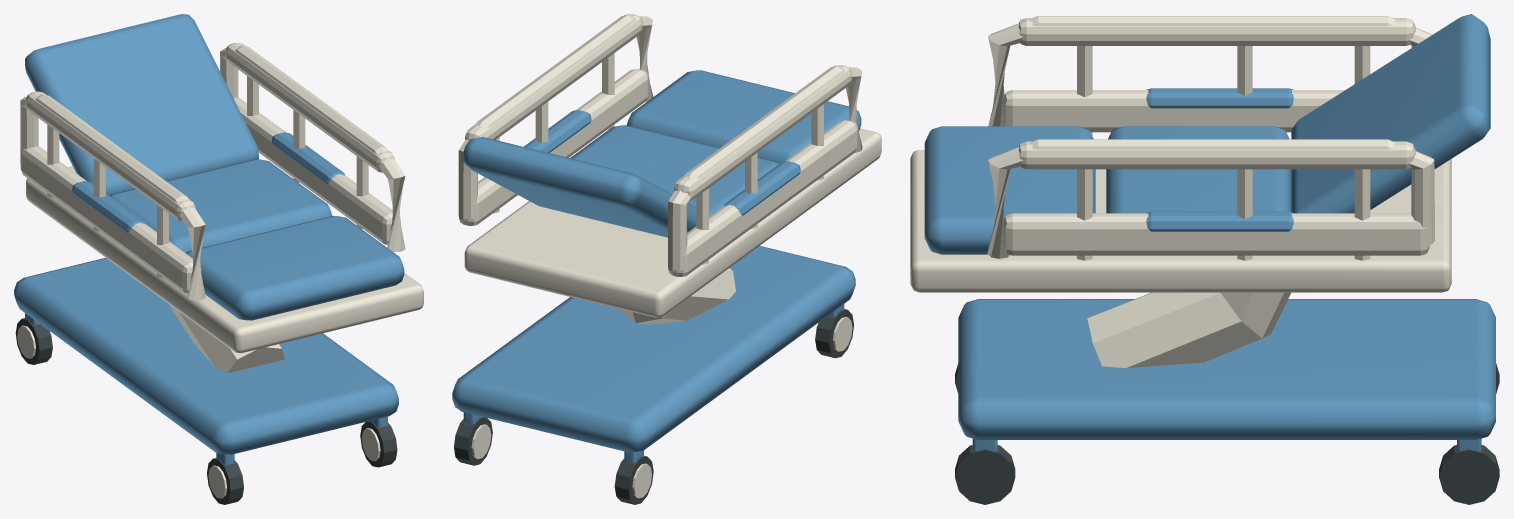
Rendered from procedure_stretcher_advanced.glb.
3 renders of one model, left to right at view 1: azimuth 30°, elevation 25°; view 2: azimuth 150°, elevation 25°; view 3: azimuth 270°, elevation 25°, orthographic. The views are drawn at different scales.
Visible parts, largest first — view 1: STATIC_procedure_stretcher_advanced, MOVING_PIVOT_backrest_hinge.002, MOVING_PIVOT_side_rail_left.002, MOVING_PIVOT_side_rail_right.002; view 2: STATIC_procedure_stretcher_advanced, MOVING_PIVOT_side_rail_left.002, MOVING_PIVOT_side_rail_right.002, MOVING_PIVOT_backrest_hinge.002; view 3: STATIC_procedure_stretcher_advanced, MOVING_PIVOT_side_rail_right.002, MOVING_PIVOT_side_rail_left.002, MOVING_PIVOT_backrest_hinge.002.
Part boxes in pixels (x1,y1,x2,y2): STATIC_procedure_stretcher_advanced: (14,159,423,504); MOVING_PIVOT_backrest_hinge.002: (25,14,258,195); MOVING_PIVOT_side_rail_left.002: (20,91,205,300); MOVING_PIVOT_side_rail_right.002: (220,43,405,252); STATIC_procedure_stretcher_advanced: (452,70,881,504); MOVING_PIVOT_side_rail_left.002: (668,65,862,276); MOVING_PIVOT_side_rail_right.002: (458,14,653,225); MOVING_PIVOT_backrest_hinge.002: (463,137,696,237); STATIC_procedure_stretcher_advanced: (910,126,1499,504); MOVING_PIVOT_side_rail_right.002: (987,139,1434,260); MOVING_PIVOT_side_rail_left.002: (988,16,1431,135); MOVING_PIVOT_backrest_hinge.002: (1291,14,1490,213).
Size of the model in its own units: 0.901 by 1.22 by 1.66.
